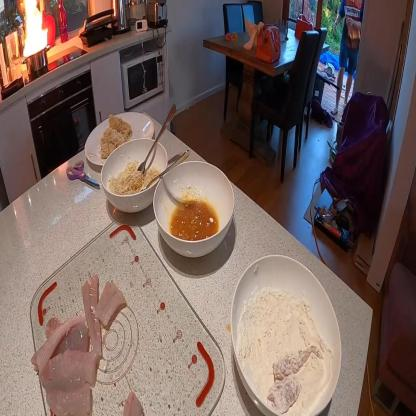fire: (20, 0, 49, 58)
